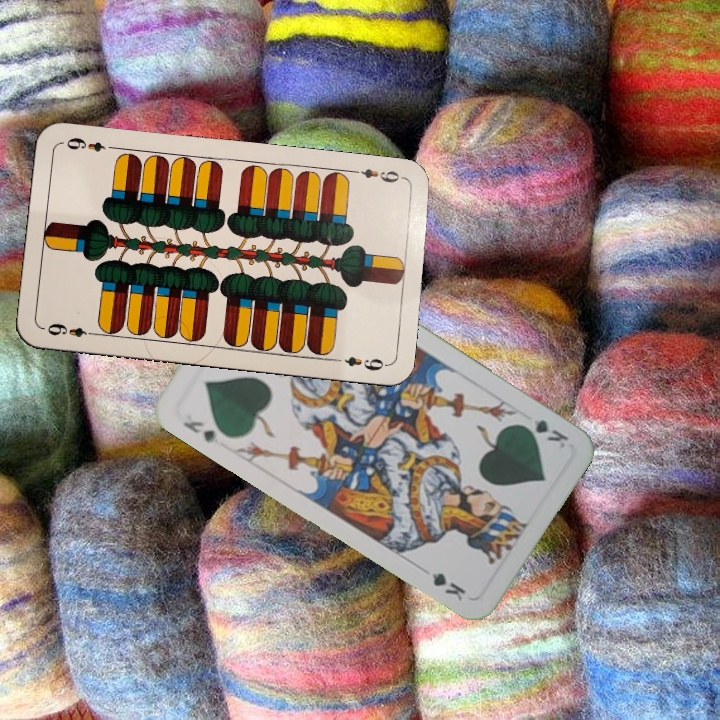E9: (349, 164, 408, 186), (43, 319, 99, 340)
GK: (515, 415, 571, 451), (178, 416, 222, 447)
